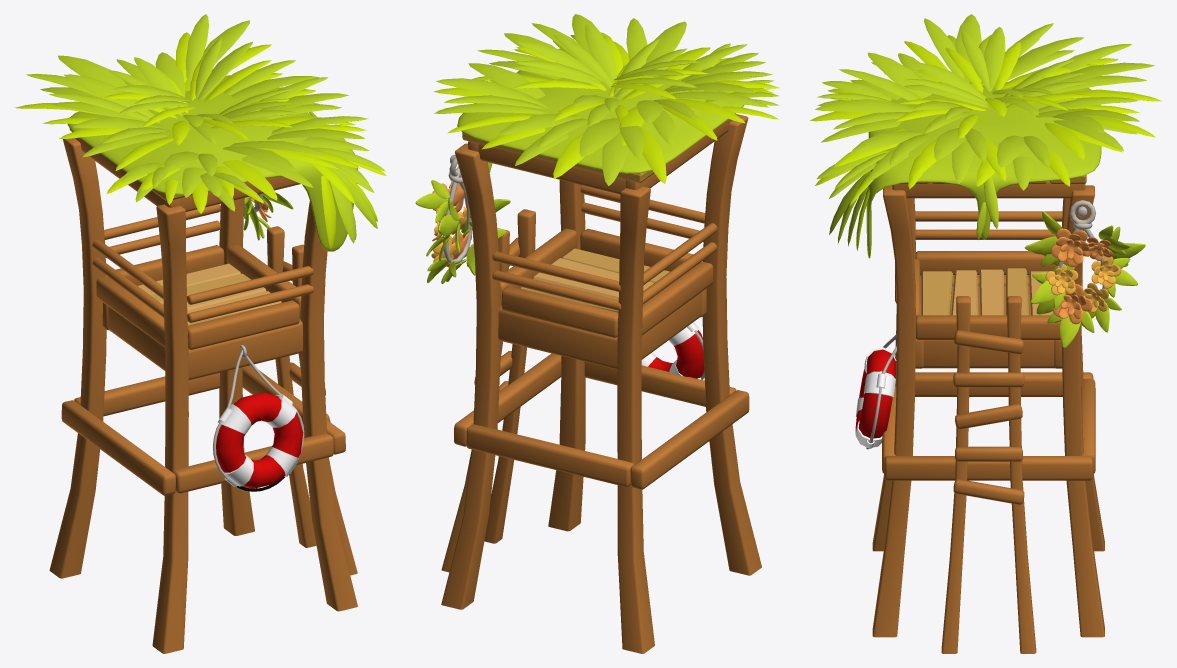
The model's file is watch_tower_model.glb.
3 views of the same model, side by side, from view 1: azimuth 30°, elevation 25°; view 2: azimuth 150°, elevation 25°; view 3: azimuth 270°, elevation 25° (orthographic). The views are drawn at different scales.
Parts seen in each view (by area): view 1: Cube.004_Cube.005_Material.014_Material.014_0, Plane.093_Plane.2571_Material.025_Material.025_0, Torus.001_Torus.001_Material.018_Material.018_0, Cube.102_Cube.812_Material.014_Material.014_0, Plane.008_Plane.011_Material.014_Material.014_0, Plane.254_Plane.002_Material.014_Material.014_0, Plane.013_Plane.2619_Material.014_Material.014_0, Plane.251_Plane.000_Material.014_Material.014_0, Plane.252_Plane.000_Material.014_Material.014_0, Plane.010_Plane.014_Material.014_Material.014_0, Plane.006_Plane.009_Material.038_Material.033_0, Plane.009_Plane.012_Material.014_Material.014_0 (+38 smaller); view 2: Cube.004_Cube.005_Material.014_Material.014_0, Plane.093_Plane.2571_Material.025_Material.025_0, Plane.252_Plane.000_Material.014_Material.014_0, Cube.102_Cube.812_Material.014_Material.014_0, Plane.004_Plane.006_Material.014_Material.014_0, Plane.254_Plane.002_Material.014_Material.014_0, Plane.012_Plane.2619_Material.014_Material.014_0, Plane.253_Plane.002_Material.014_Material.014_0, Plane.251_Plane.000_Material.014_Material.014_0, Plane.010_Plane.014_Material.014_Material.014_0, Plane.018_Plane.023_Material.014_Material.014_0, Plane.013_Plane.2619_Material.014_Material.014_0 (+39 smaller); view 3: Cube.004_Cube.005_Material.014_Material.014_0, Plane.093_Plane.2571_Material.025_Material.025_0, Cube.102_Cube.812_Material.014_Material.014_0, Plane.253_Plane.002_Material.014_Material.014_0, Plane.011_Plane.014_Material.014_Material.014_0, Plane.007_Plane.010_Material.014_Material.014_0, Plane.010_Plane.014_Material.014_Material.014_0, Plane.254_Plane.002_Material.014_Material.014_0, Plane.006_Plane.009_Material.038_Material.033_0, Plane.117_Plane.2610_Material.031_Material.1088_0, Plane.000_Plane.022_Material.014_Material.014_0, Torus.001_Torus.001_Material.018_Material.018_0 (+37 smaller).
Part boxes in pixels (x1=…): Cube.004_Cube.005_Material.014_Material.014_0: x1=49, y1=138, x2=357, y2=653; Plane.093_Plane.2571_Material.025_Material.025_0: x1=67, y1=75, x2=357, y2=251; Torus.001_Torus.001_Material.018_Material.018_0: x1=216, y1=392, x2=303, y2=488; Cube.102_Cube.812_Material.014_Material.014_0: x1=267, y1=226, x2=357, y2=575; Plane.008_Plane.011_Material.014_Material.014_0: x1=188, y1=319, x2=302, y2=380; Plane.254_Plane.002_Material.014_Material.014_0: x1=61, y1=400, x2=175, y2=495; Plane.013_Plane.2619_Material.014_Material.014_0: x1=187, y1=300, x2=299, y2=349; Plane.251_Plane.000_Material.014_Material.014_0: x1=172, y1=433, x2=333, y2=493; Plane.252_Plane.000_Material.014_Material.014_0: x1=74, y1=373, x2=219, y2=416; Plane.010_Plane.014_Material.014_Material.014_0: x1=96, y1=276, x2=164, y2=347; Plane.006_Plane.009_Material.038_Material.033_0: x1=138, y1=263, x2=281, y2=324; Plane.009_Plane.012_Material.014_Material.014_0: x1=108, y1=306, x2=165, y2=370; Cube.004_Cube.005_Material.014_Material.014_0: x1=441, y1=114, x2=761, y2=653; Plane.093_Plane.2571_Material.025_Material.025_0: x1=457, y1=56, x2=744, y2=173; Plane.252_Plane.000_Material.014_Material.014_0: x1=466, y1=424, x2=634, y2=487; Cube.102_Cube.812_Material.014_Material.014_0: x1=441, y1=209, x2=535, y2=572; Plane.004_Plane.006_Material.014_Material.014_0: x1=498, y1=305, x2=617, y2=369; Plane.254_Plane.002_Material.014_Material.014_0: x1=630, y1=390, x2=749, y2=489; Plane.012_Plane.2619_Material.014_Material.014_0: x1=502, y1=286, x2=618, y2=337; Plane.253_Plane.002_Material.014_Material.014_0: x1=454, y1=353, x2=561, y2=446; Plane.251_Plane.000_Material.014_Material.014_0: x1=584, y1=361, x2=736, y2=406; Plane.010_Plane.014_Material.014_Material.014_0: x1=642, y1=261, x2=713, y2=335; Plane.018_Plane.023_Material.014_Material.014_0: x1=478, y1=144, x2=625, y2=194; Plane.013_Plane.2619_Material.014_Material.014_0: x1=580, y1=228, x2=693, y2=271; Cube.004_Cube.005_Material.014_Material.014_0: x1=872, y1=185, x2=1104, y2=637; Plane.093_Plane.2571_Material.025_Material.025_0: x1=866, y1=81, x2=1101, y2=258; Cube.102_Cube.812_Material.014_Material.014_0: x1=941, y1=296, x2=1036, y2=653; Plane.253_Plane.002_Material.014_Material.014_0: x1=884, y1=456, x2=1093, y2=480; Plane.011_Plane.014_Material.014_Material.014_0: x1=916, y1=315, x2=1060, y2=340; Plane.007_Plane.010_Material.014_Material.014_0: x1=922, y1=340, x2=1054, y2=368; Plane.010_Plane.014_Material.014_Material.014_0: x1=915, y1=251, x2=1056, y2=275; Plane.254_Plane.002_Material.014_Material.014_0: x1=915, y1=372, x2=1093, y2=396; Plane.006_Plane.009_Material.038_Material.033_0: x1=951, y1=269, x2=1053, y2=315; Plane.117_Plane.2610_Material.031_Material.1088_0: x1=921, y1=268, x2=1028, y2=315; Plane.000_Plane.022_Material.014_Material.014_0: x1=892, y1=181, x2=1085, y2=198; Torus.001_Torus.001_Material.018_Material.018_0: x1=855, y1=349, x2=895, y2=438.
Size of the model in its own units: 2.87 by 5.21 by 3.18.
Materials: 13 (1 with a texture image).
